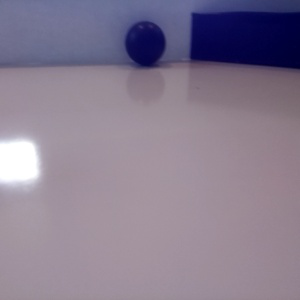zone: (191, 11, 300, 69)
